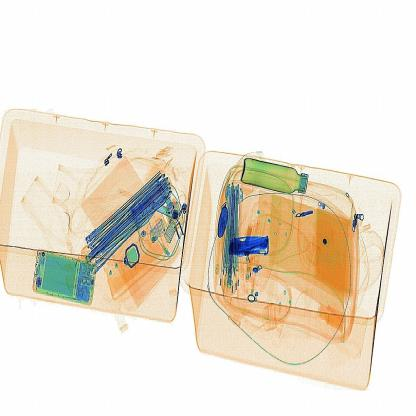knife: (228, 230, 279, 259)
